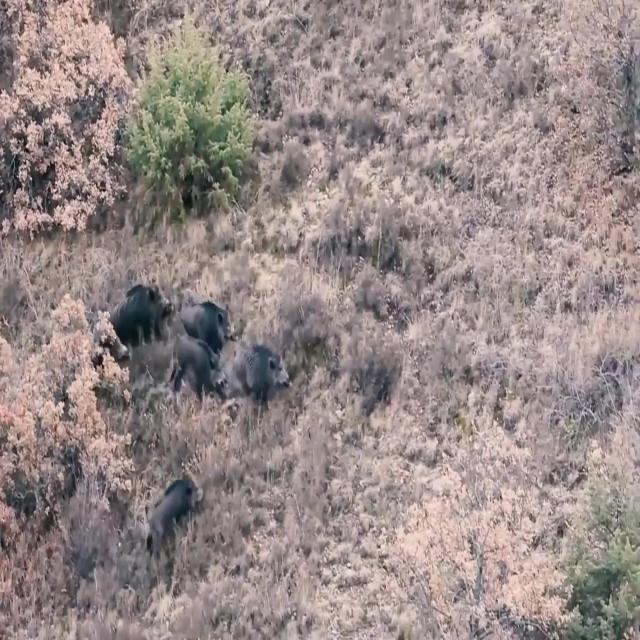pig: (130, 446, 200, 560), (225, 338, 322, 409), (108, 265, 184, 345), (184, 281, 250, 338), (173, 334, 216, 388)
